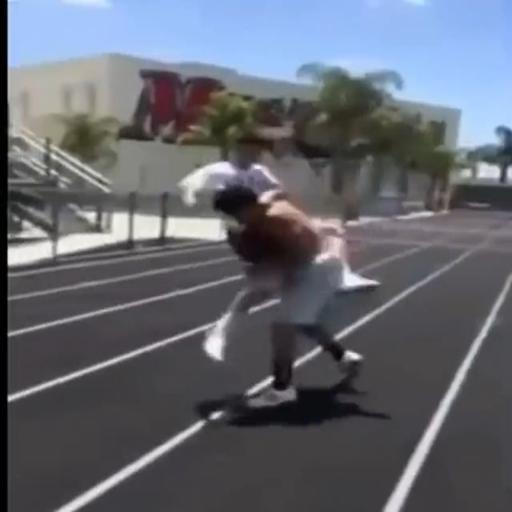violencia: (141, 126, 396, 436)
